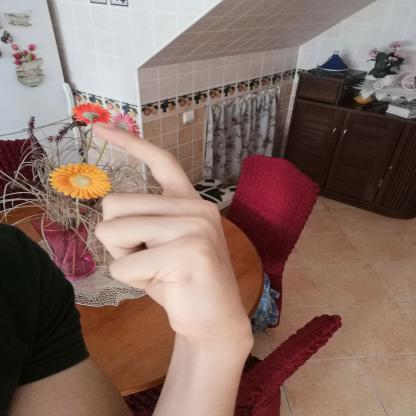RAA: (76, 113, 264, 351)
